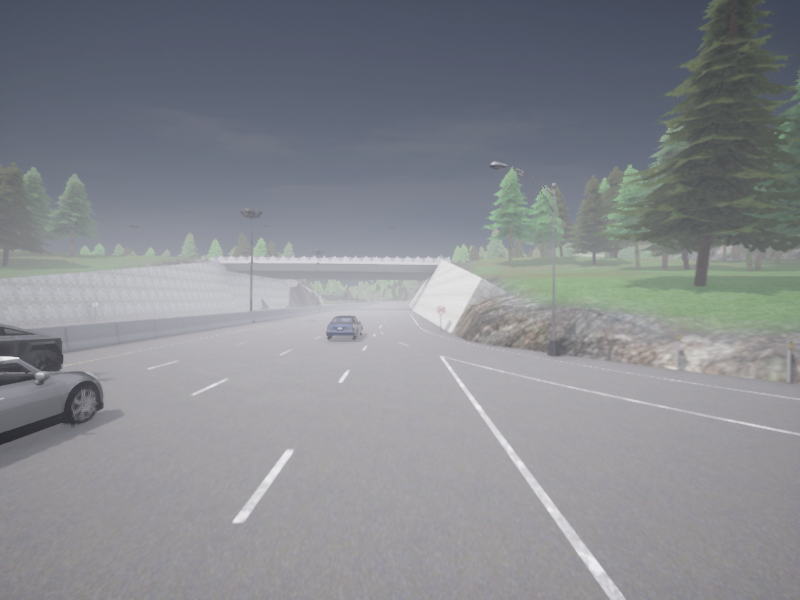vehicle: (0, 357, 103, 444), (0, 323, 63, 370), (326, 316, 362, 338)
